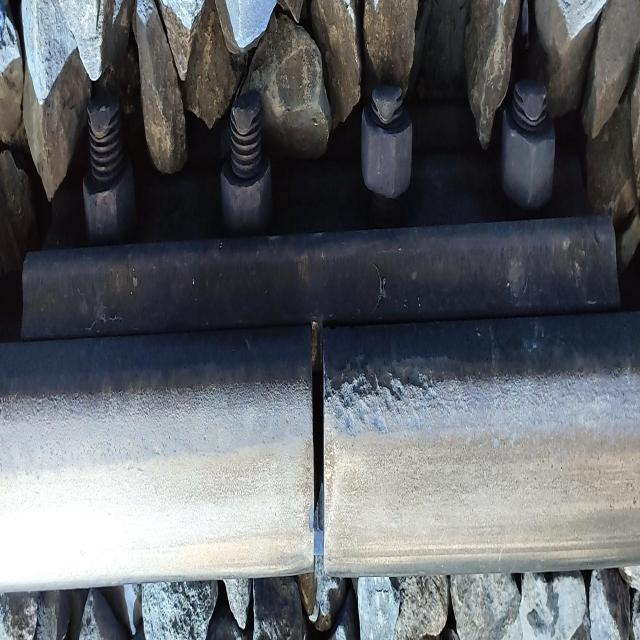railway_join_bar_defects_low: (302, 324, 341, 576)
